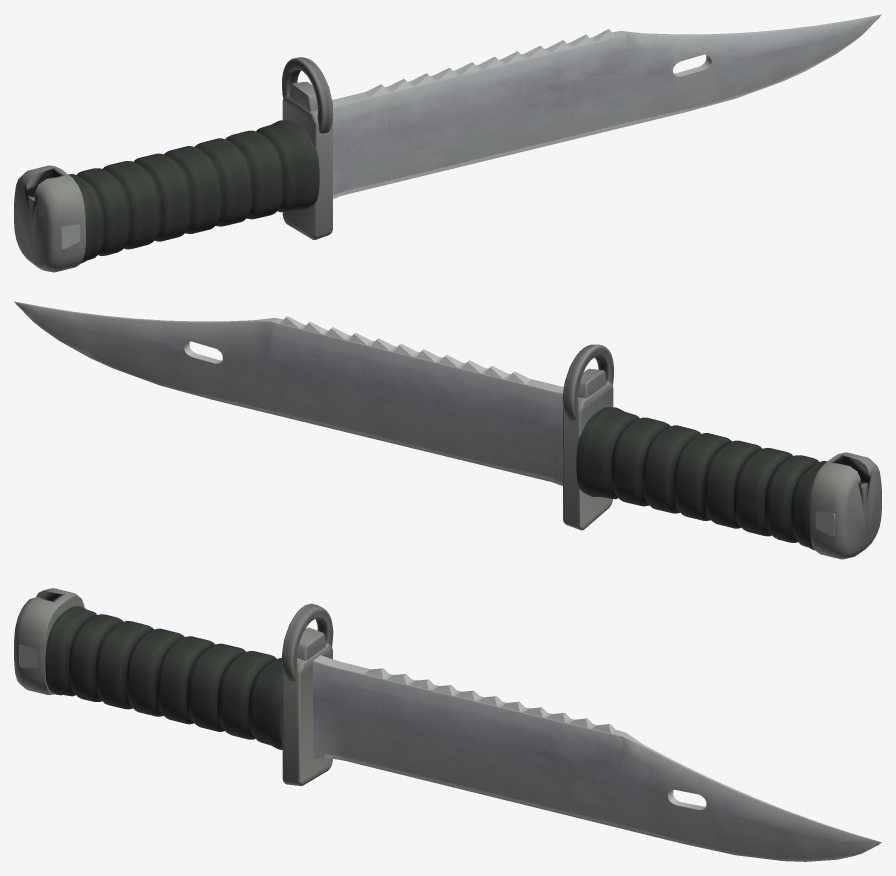
The model's file is m9_bayonet_lod1.glb.
The picture shows the model from 3 angles, top to bottom: view 1: azimuth 30°, elevation 25°; view 2: azimuth 150°, elevation 25°; view 3: azimuth 330°, elevation 25°; orthographic projection.
Visible parts, largest first — view 1: body; view 2: body; view 3: body.
Boxes of the visible parts, <box> form: body: <box>14,14,881,272</box>; body: <box>14,301,881,559</box>; body: <box>14,588,881,861</box>.
Size of the model in its own units: 0.372 by 0.072 by 0.0324.
Materials: 5 (5 with a texture image).
